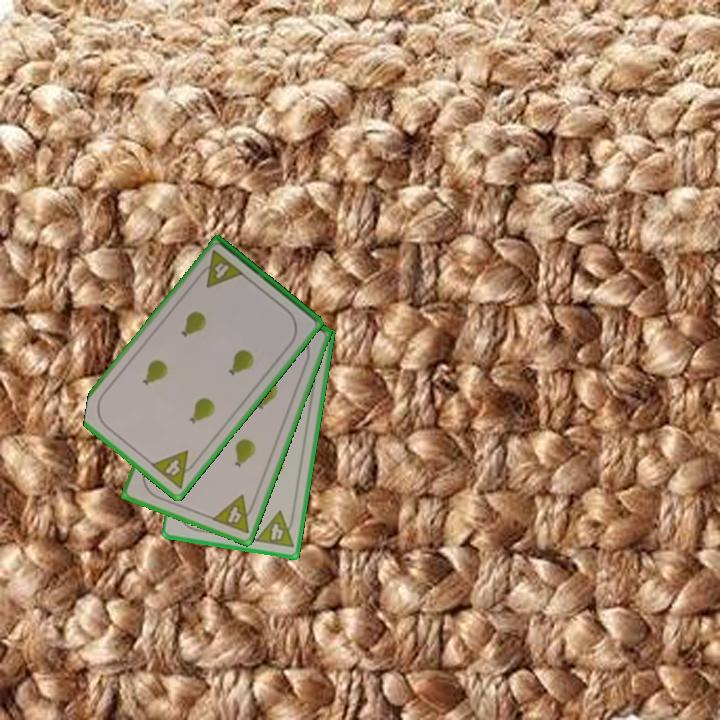4p: (147, 447, 202, 492), (208, 491, 259, 537), (194, 247, 247, 291), (252, 508, 298, 551)
